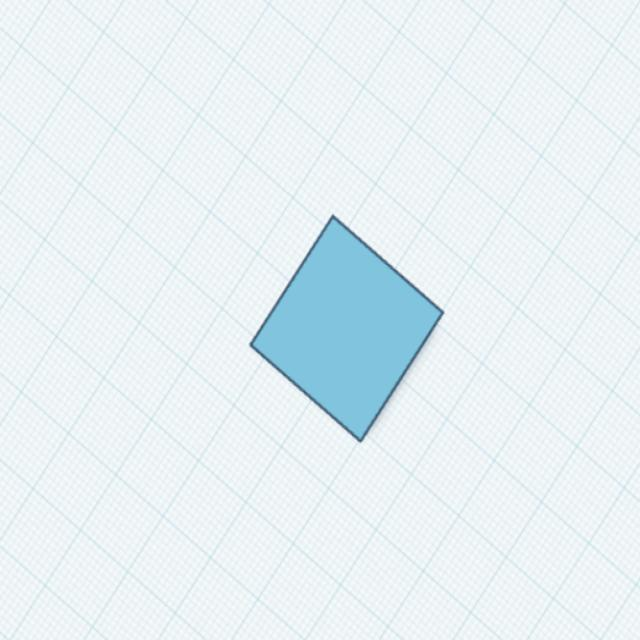cube: (242, 205, 449, 450)
